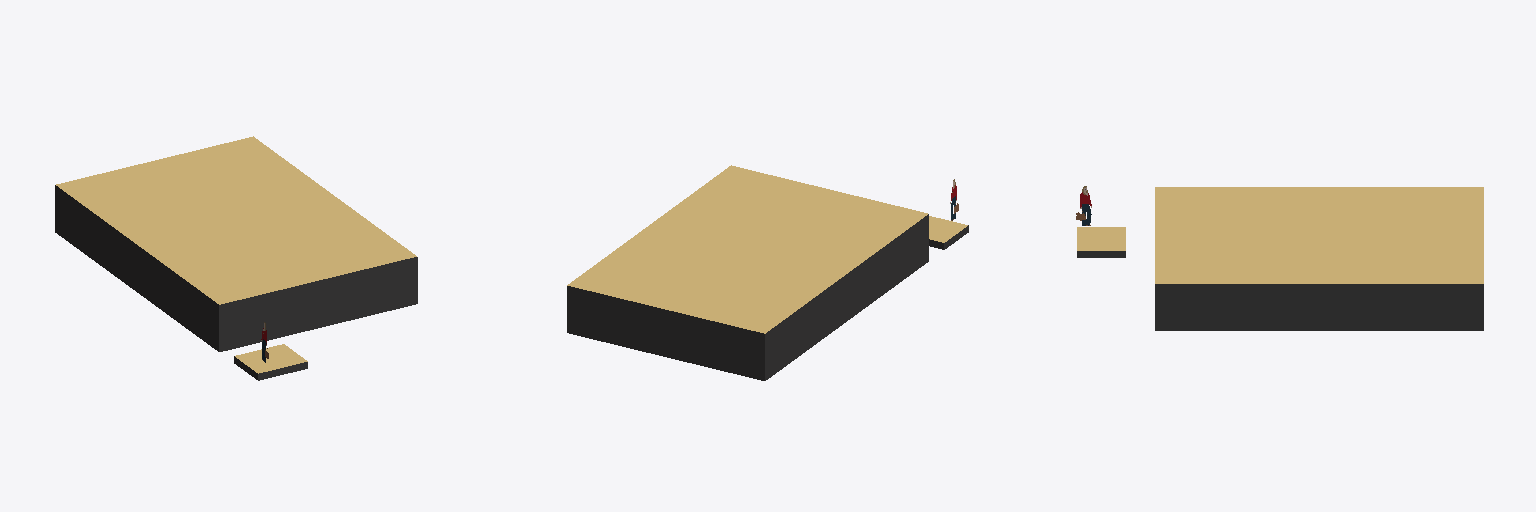
The picture shows the model from 3 angles: view 1: azimuth 30°, elevation 25°; view 2: azimuth 150°, elevation 25°; view 3: azimuth 270°, elevation 25°; orthographic projection.
Visible parts, largest first — view 1: Mesh3 Model, Mesh2 Model; view 2: Mesh3 Model, Mesh2 Model; view 3: Mesh3 Model, Mesh2 Model.
Part boxes in pixels (bbox=[...]): Mesh3 Model: bbox=[55, 136, 417, 351]; Mesh2 Model: bbox=[234, 344, 307, 380]; Mesh3 Model: bbox=[567, 165, 928, 380]; Mesh2 Model: bbox=[929, 216, 968, 249]; Mesh3 Model: bbox=[1155, 187, 1483, 330]; Mesh2 Model: bbox=[1077, 227, 1125, 257].
Size of the model in its own units: 8.77 by 2.26 by 15.59.